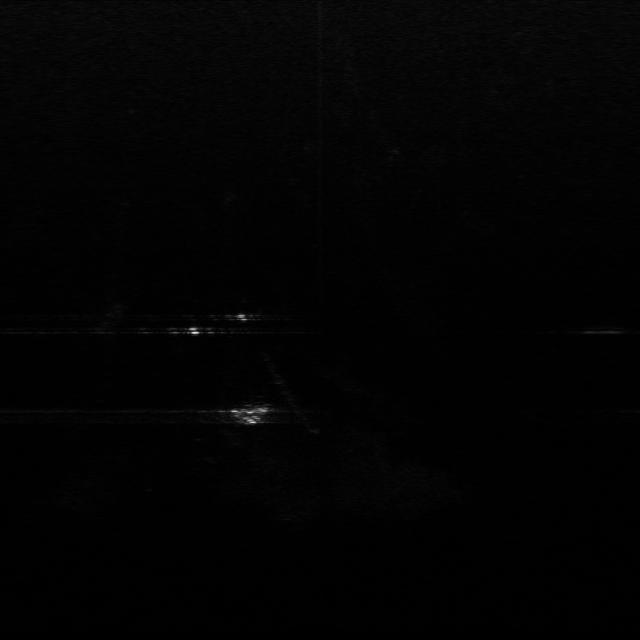rov: (228, 403, 272, 426)
